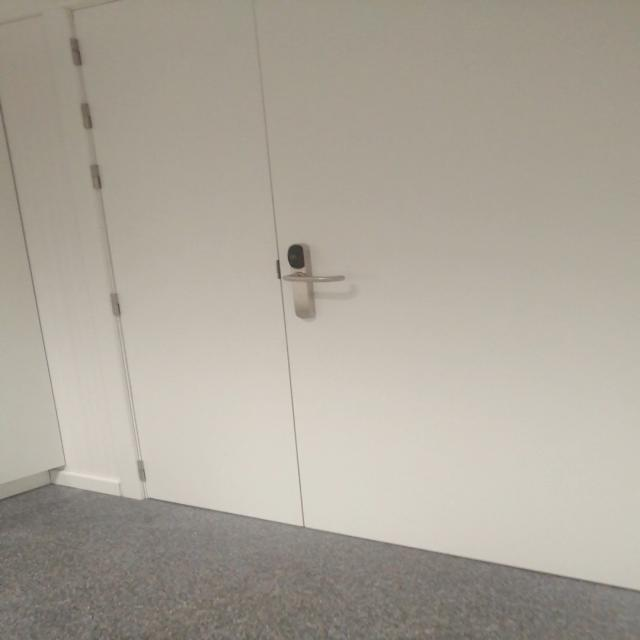door_handle: (277, 270, 348, 285)
